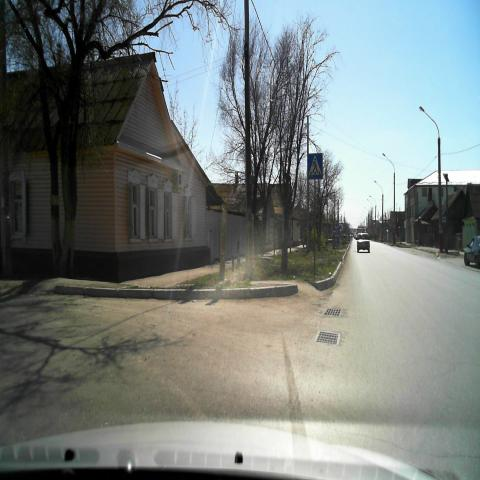5_19_1: (307, 153, 323, 180)
